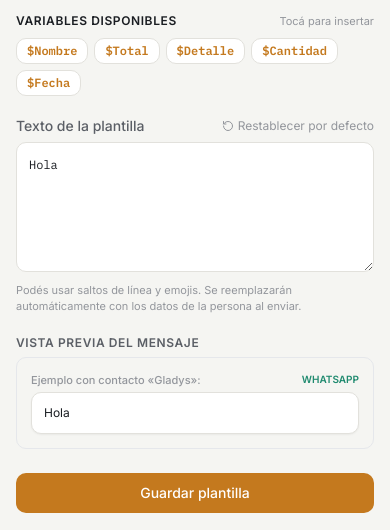
WhatsAppTemplateForm › inserta una variable al hacer click en su chip
Step 1. Click the text "$Nombre" → (52, 50), box [27,42,77,58]
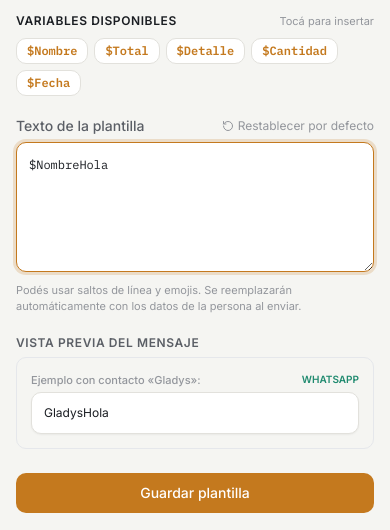
Expected: the text box holds "$NombreHola", [16,142,374,272]
